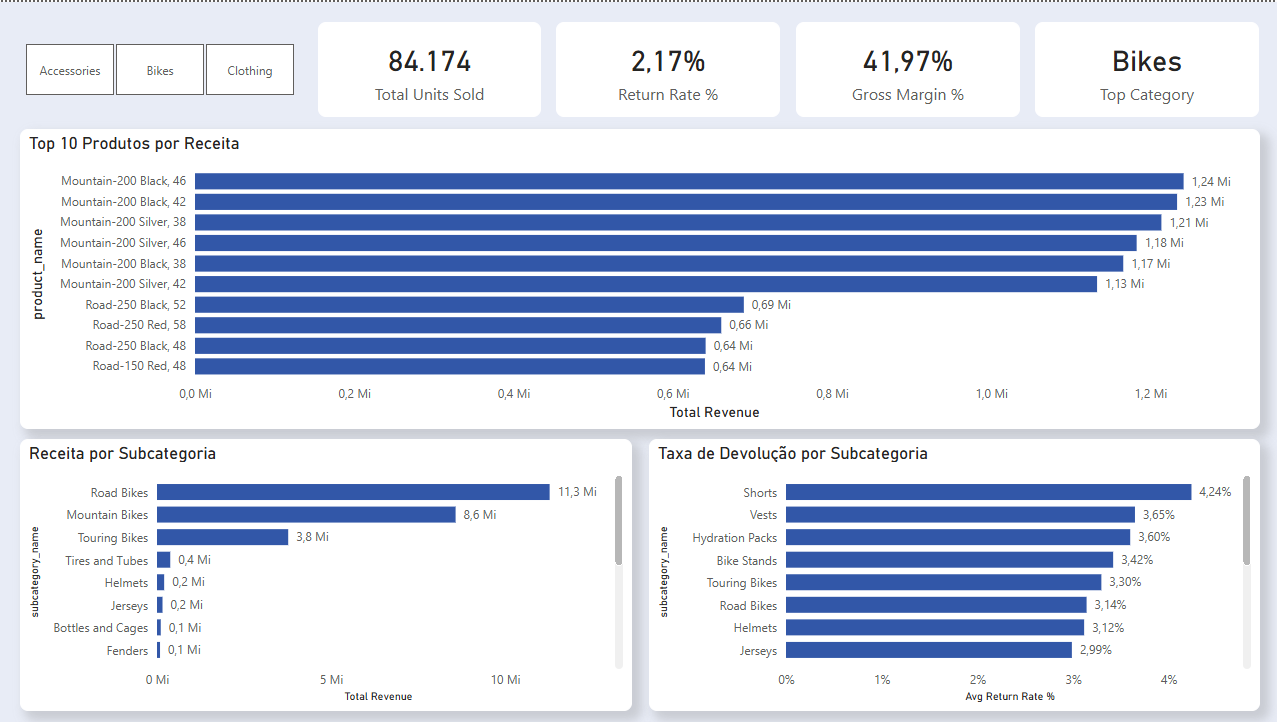

What the dashboard file says about the page in this screenshot:
{"tool":"powerbi","page":{"name":"Produtos & Portfólio","canvas":[1280,720],"ordinal":1},"visuals":[{"type":"card","fields":{"Values":["_Measures.Total Units Sold"]},"box":[318,20,223,95],"z":0},{"type":"card","fields":{"Values":["_Measures.Return Rate %"]},"box":[556.3,20,224,95],"z":1000},{"type":"card","fields":{"Values":["_Measures.Gross Margin %"]},"box":[795.7,20,224,95],"z":2000},{"type":"card","fields":{"Values":["_Measures.Top Category"]},"box":[1035,20,224,95],"z":3000},{"type":"clusteredBarChart","title":"Top 10 Produtos por Receita","fields":{"Y":["_Measures.Total Revenue"],"Category":["dim_product.product_name"]},"box":[20,127,1240,300],"z":4000},{"type":"clusteredBarChart","title":"Receita por Subcategoria","fields":{"Category":["dim_product.subcategory_name"],"Y":["_Measures.Total Revenue"]},"box":[20,437,612,272],"z":5000},{"type":"clusteredBarChart","title":"Taxa de Devolução por Subcategoria","fields":{"Category":["dim_product.subcategory_name"],"Y":["_Measures.Avg Return Rate %"]},"box":[649,437,611,272],"z":6000},{"type":"slicer","fields":{"Values":["dim_product.category_name"]},"box":[0,35,318,65],"z":7000}]}

Visuals, with their boxes in screenshot pixels (x1, y1, x2, y2), scaled from the page's 1280x720 canvas onto the 1277x722 screenshot:
card - _Measures.Total Units Sold: (left=317, top=20, right=540, bottom=115)
card - _Measures.Return Rate %: (left=555, top=20, right=778, bottom=115)
card - _Measures.Gross Margin %: (left=794, top=20, right=1017, bottom=115)
card - _Measures.Top Category: (left=1033, top=20, right=1256, bottom=115)
"Top 10 Produtos por Receita" clusteredBarChart: (left=20, top=127, right=1257, bottom=428)
"Receita por Subcategoria" clusteredBarChart: (left=20, top=438, right=631, bottom=711)
"Taxa de Devolução por Subcategoria" clusteredBarChart: (left=647, top=438, right=1257, bottom=711)
slicer - dim_product.category_name: (left=0, top=35, right=317, bottom=100)
